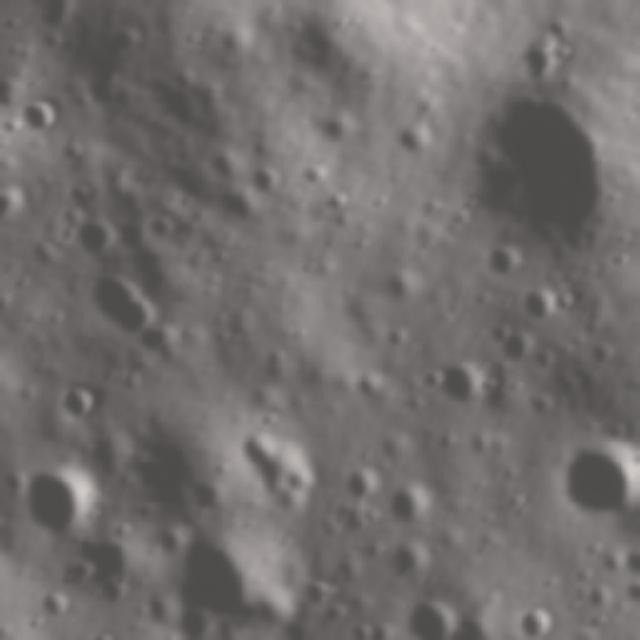crater: (444, 69, 633, 246), (173, 530, 278, 619), (12, 459, 103, 541), (560, 442, 640, 528), (225, 431, 321, 502), (86, 270, 168, 341), (434, 358, 488, 412), (407, 597, 467, 640), (53, 379, 107, 426), (210, 182, 264, 228), (382, 542, 435, 588), (68, 214, 120, 260), (18, 90, 62, 144), (388, 480, 438, 526), (388, 116, 432, 166), (486, 240, 528, 288), (378, 266, 422, 311), (498, 324, 542, 368), (118, 219, 160, 264), (342, 462, 384, 506), (518, 284, 560, 327), (39, 588, 78, 632), (315, 105, 354, 148), (512, 609, 566, 640), (518, 42, 559, 81), (298, 577, 340, 614), (0, 179, 26, 232), (148, 212, 185, 248), (205, 244, 244, 278), (352, 366, 388, 402), (322, 184, 360, 213), (378, 324, 414, 354), (421, 364, 452, 398), (0, 112, 28, 148), (484, 317, 516, 346), (620, 545, 640, 584), (620, 572, 640, 608), (436, 428, 462, 454), (79, 626, 124, 640), (347, 620, 378, 640), (46, 0, 83, 8), (478, 638, 554, 640), (54, 637, 97, 640)
